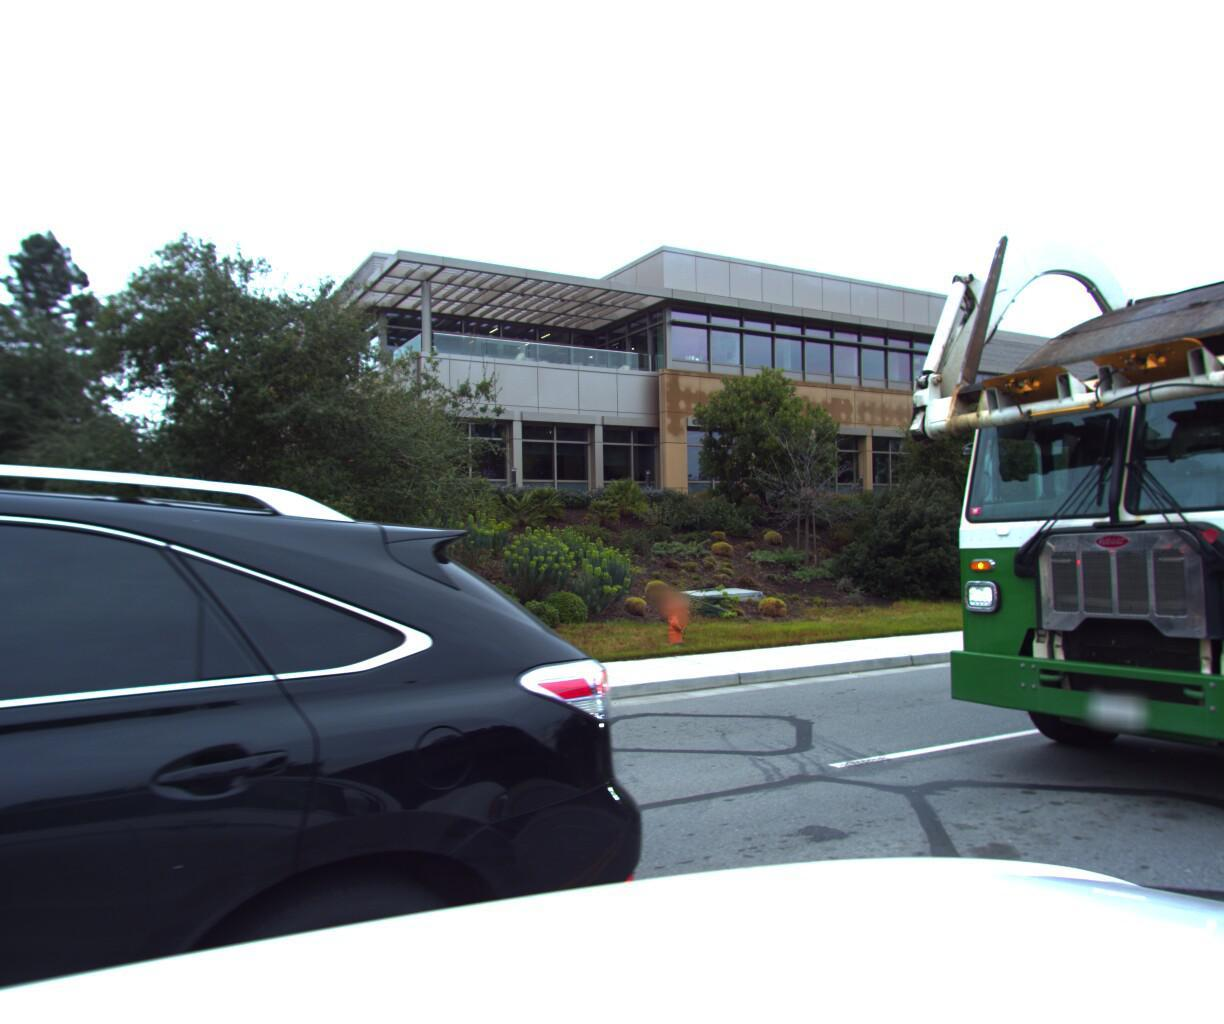truck: (867, 0, 1224, 926)
